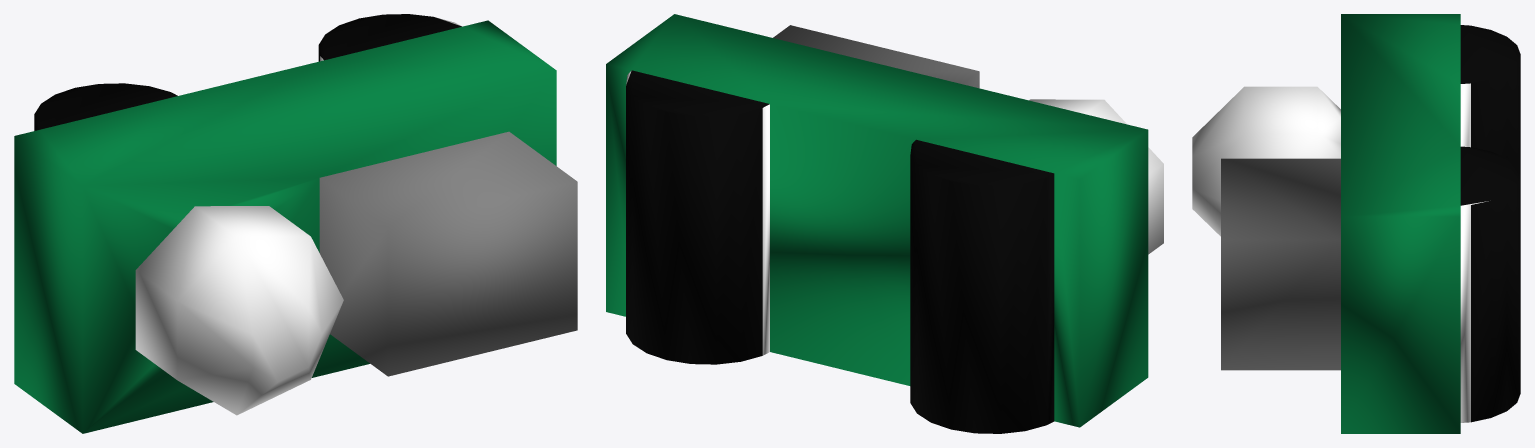
The model's file is truck.dae.
The picture shows the model from 3 angles, left to right: view 1: azimuth 30°, elevation 25°; view 2: azimuth 150°, elevation 25°; view 3: azimuth 270°, elevation 25°; orthographic projection. The views are drawn at different scales.
Parts seen in each view (by area): view 1: meshU3D; view 2: meshU3D; view 3: meshU3D.
Part boxes in pixels (box(x1,y1,x2,y2)): meshU3D: box(14, 14, 577, 433); meshU3D: box(606, 14, 1163, 433); meshU3D: box(1192, 14, 1520, 433).
Bounding box in the file's own units: 10 × 5 × 6.85.
